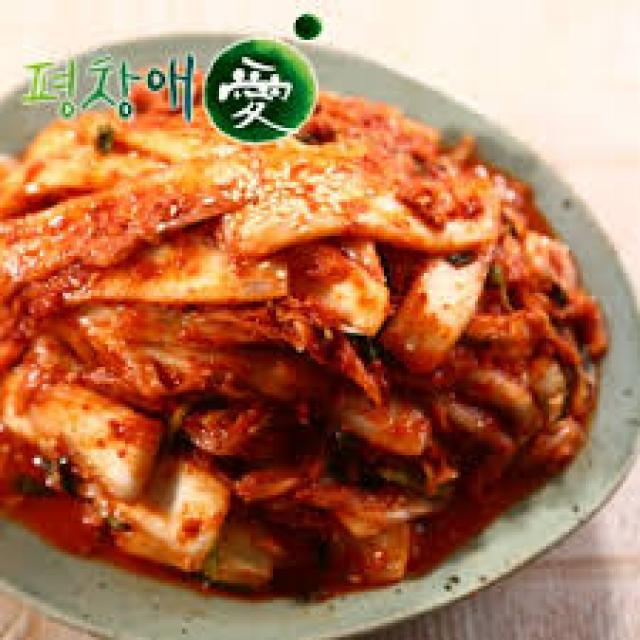kimchi: (23, 145, 492, 469)
